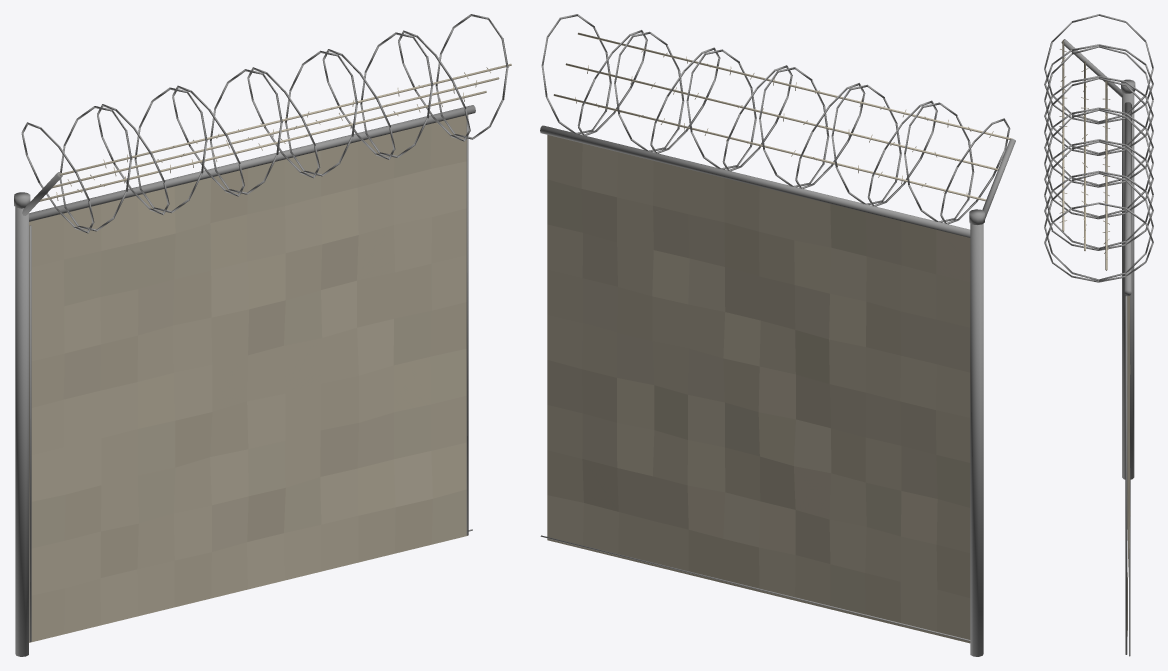
File: hood_fence_chain.glb
The picture shows the model from 3 angles, left to right: view 1: azimuth 30°, elevation 25°; view 2: azimuth 150°, elevation 25°; view 3: azimuth 270°, elevation 25°; orthographic projection. The views are drawn at different scales.
Visible parts, largest first — view 1: hood_fence_chain, arm.001, barb.057; view 2: hood_fence_chain, arm.001, barb.057; view 3: arm.001, barb.057, hood_fence_chain.
Part boxes in pixels (bbox=[...]): hood_fence_chain: bbox=[29, 115, 468, 642]; arm.001: bbox=[14, 14, 508, 656]; barb.057: bbox=[39, 63, 511, 201]; hood_fence_chain: bbox=[547, 135, 970, 643]; arm.001: bbox=[540, 14, 1015, 656]; barb.057: bbox=[553, 32, 1012, 201]; arm.001: bbox=[1044, 14, 1153, 656]; barb.057: bbox=[1059, 40, 1110, 270]; hood_fence_chain: bbox=[1127, 295, 1130, 636].
Bounding box in the file's own units: 2.54 × 2.85 × 0.6113.
